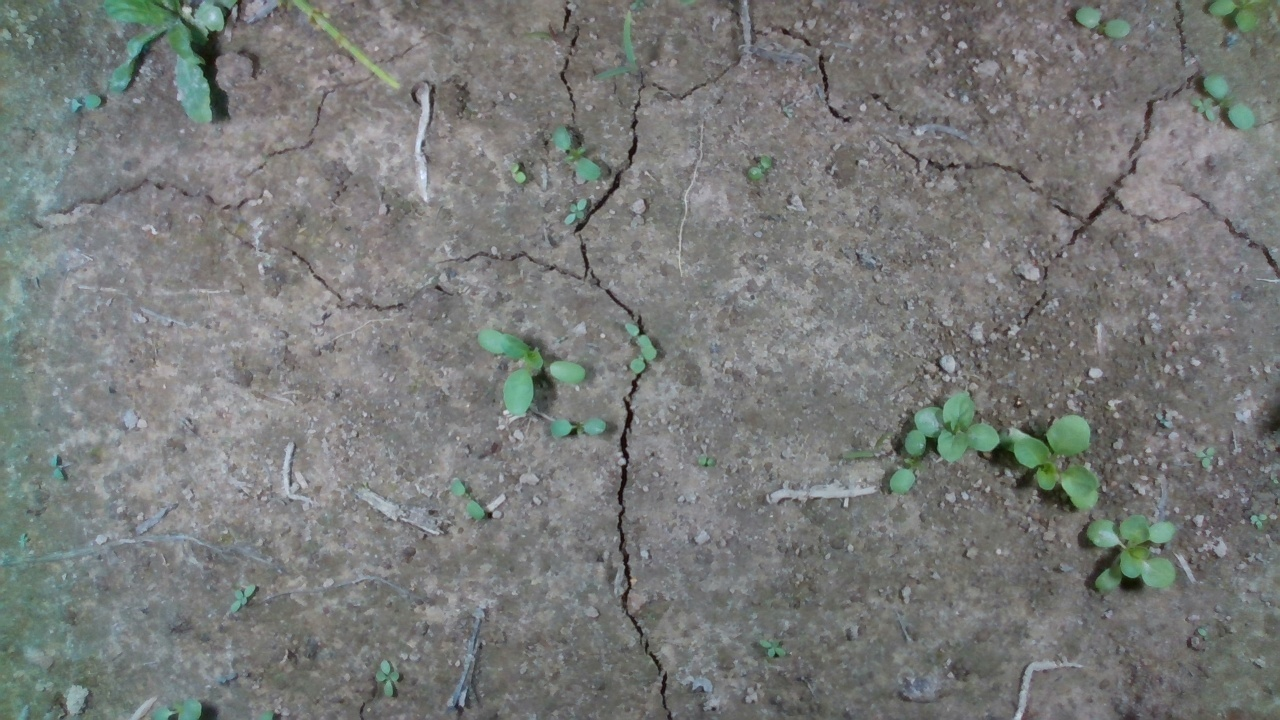weed: (1203, 71, 1258, 131), (548, 407, 607, 442), (1075, 7, 1135, 38), (1207, 0, 1262, 32), (741, 144, 775, 185), (558, 193, 593, 232), (372, 658, 399, 696), (691, 450, 723, 476), (503, 159, 531, 188), (1189, 97, 1222, 121), (1192, 444, 1220, 467)
